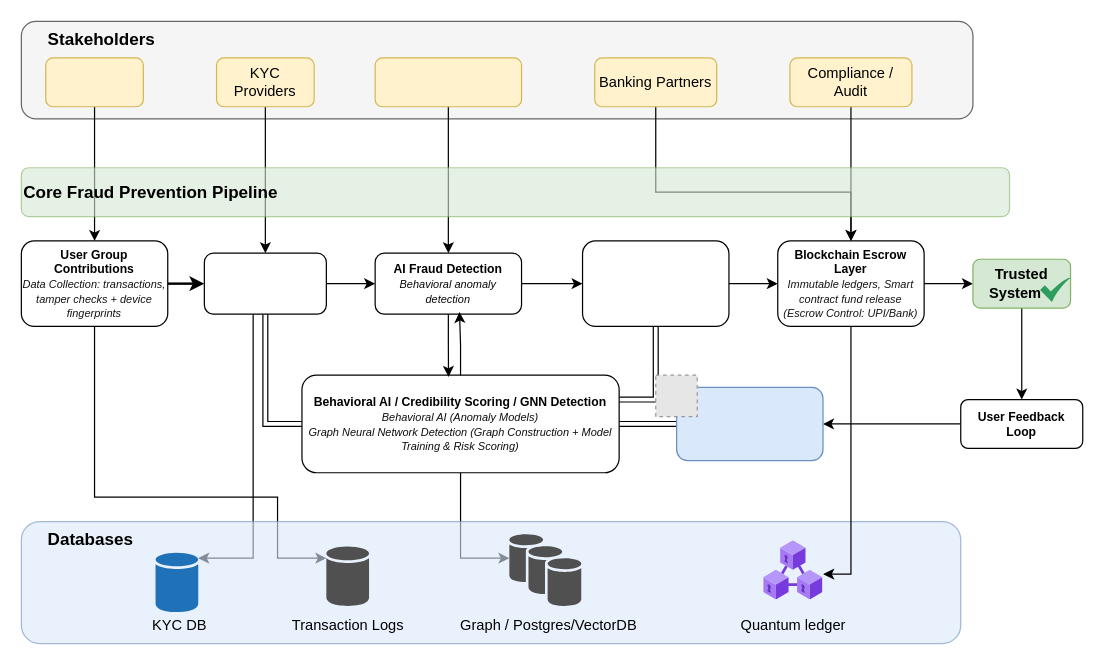
Image size: 1104x665. Some labels were removed from this diagram. Grey dashed boxes stand in for pictures. Each missing label, with the box of its shape:
AI Based solution: (374, 57, 522, 107)
Continuous model refinement/retraining/fraud pattern update: (675, 386, 823, 461)
DB Layer Vector Database (Store embeddings, similarity search-vectors): (581, 240, 729, 326)
End Users: (45, 57, 143, 107)
Identity Check: (203, 252, 326, 314)
